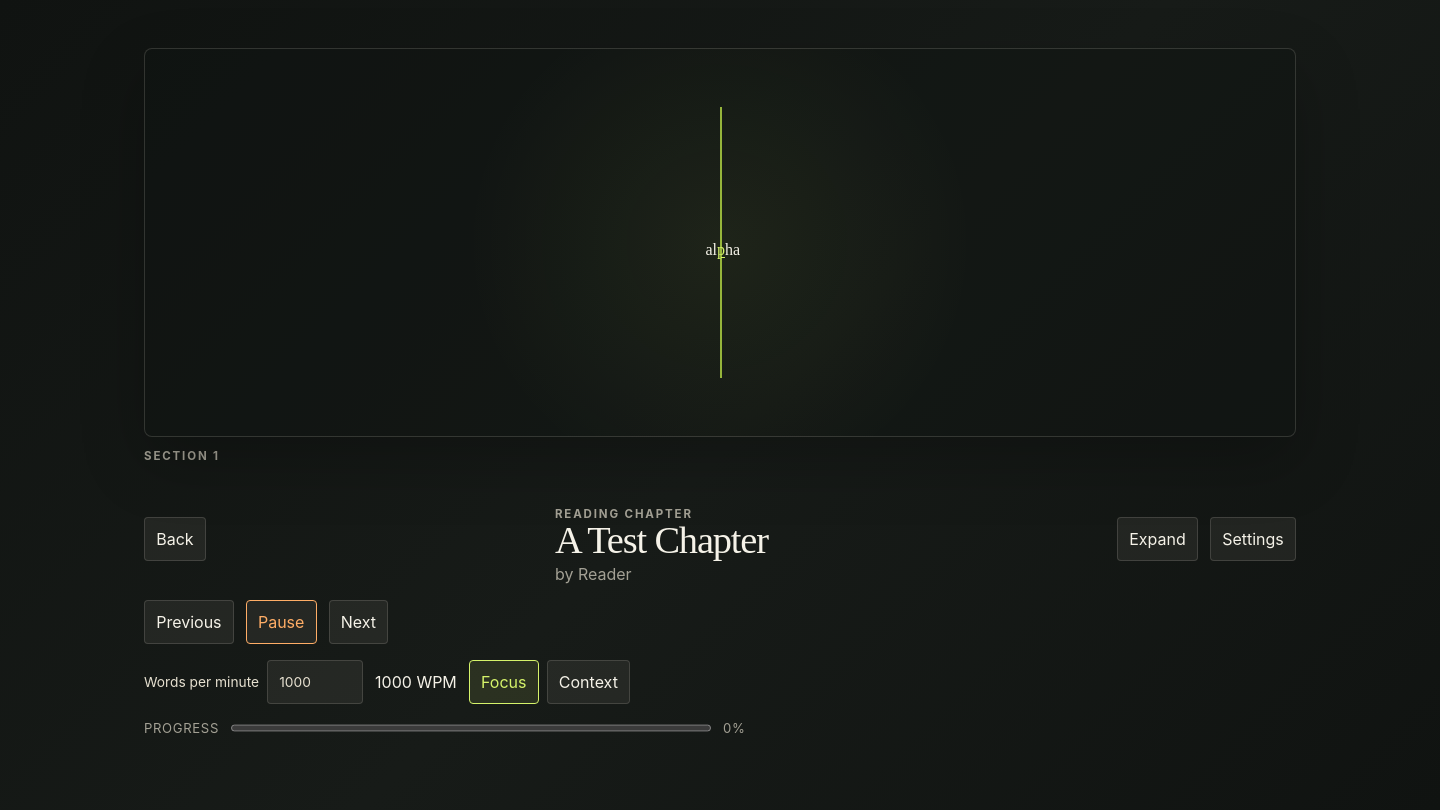
Test case: reader surface › opens expanded mode and closes it first on Escape
This screenshot has width=1440, height=810.
Expected: the button "Pause" is shown, 246,600 -> 316,644
Click the button "Expand" at (1157, 539), box 1117,517 -> 1198,561
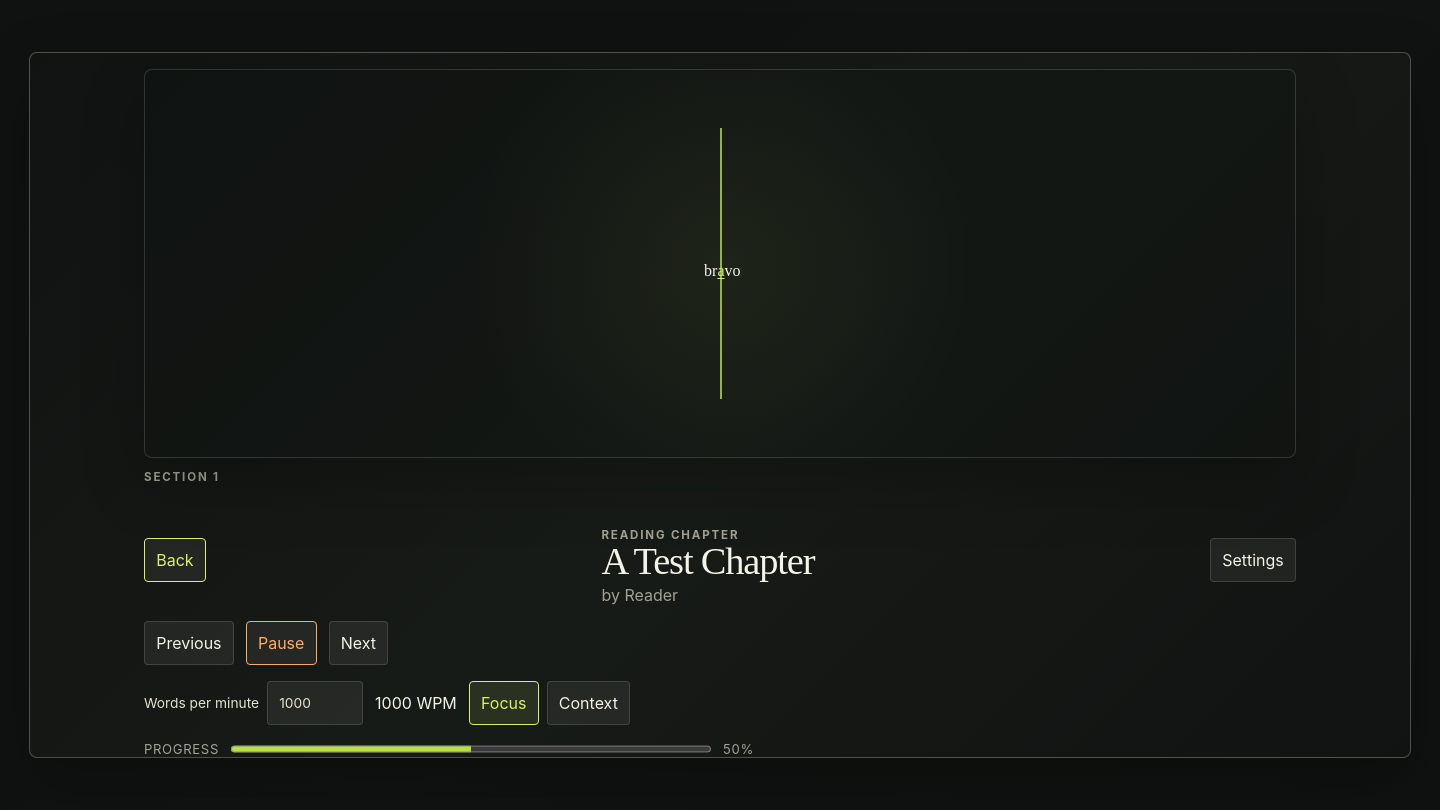
Now the dialog is shown
Press Escape
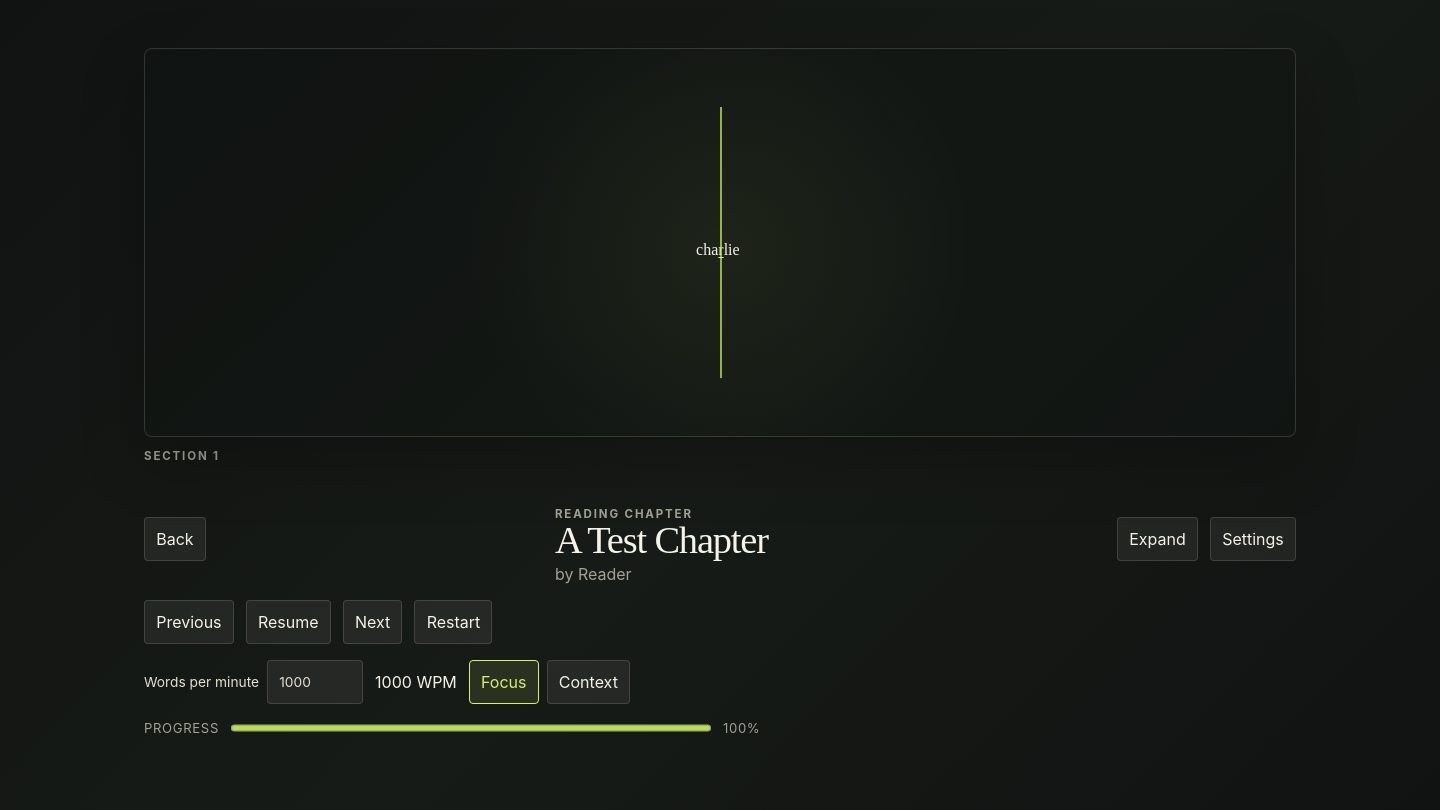
Now the dialog is gone
